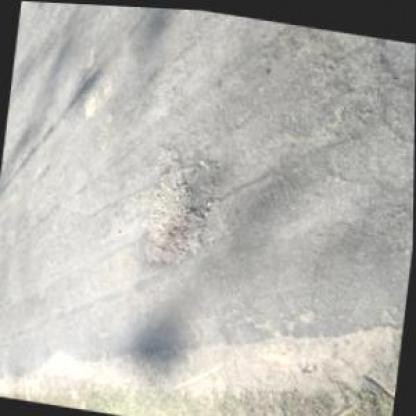pothole: (136, 137, 216, 272)
